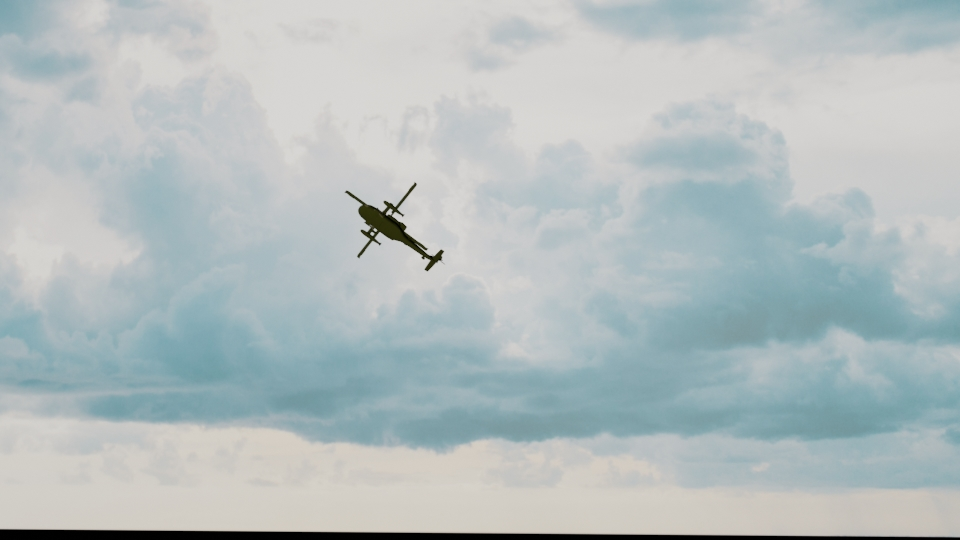heli: (347, 180, 444, 268)
